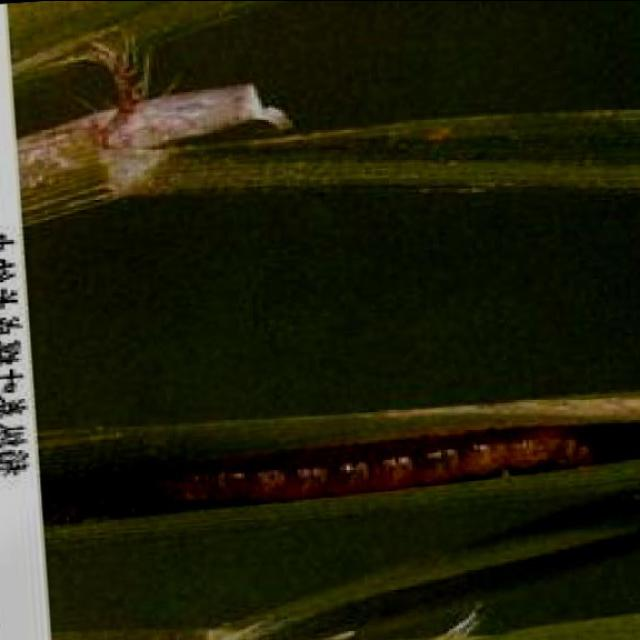leaf folder: (51, 428, 622, 523)
